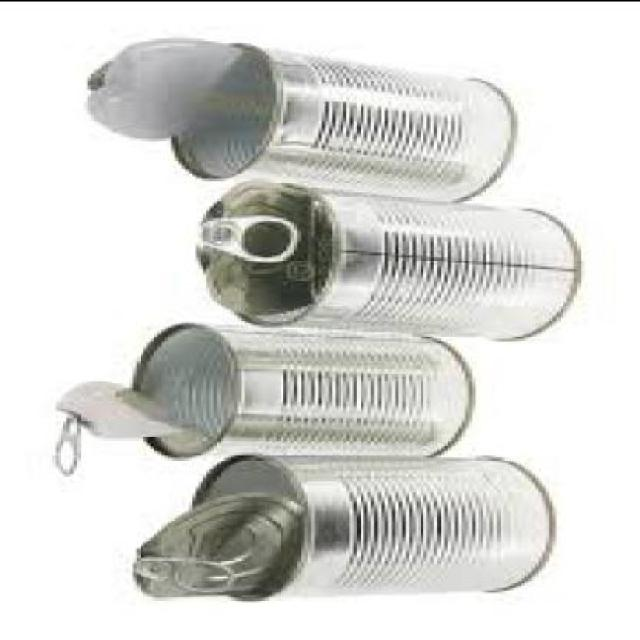METAL: (83, 42, 511, 200), (52, 320, 480, 474), (125, 454, 553, 603), (196, 183, 581, 340), (160, 44, 514, 202), (190, 451, 556, 603), (126, 321, 472, 456), (132, 493, 305, 601), (192, 186, 325, 319), (84, 42, 244, 142), (49, 384, 213, 470), (192, 220, 294, 262)
